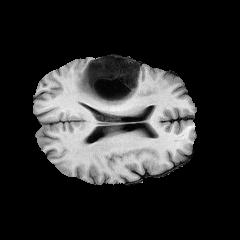glioma: (74, 57, 141, 107)
